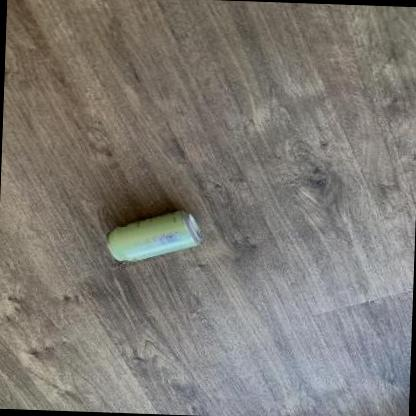alumunium_can: (104, 207, 204, 266)
